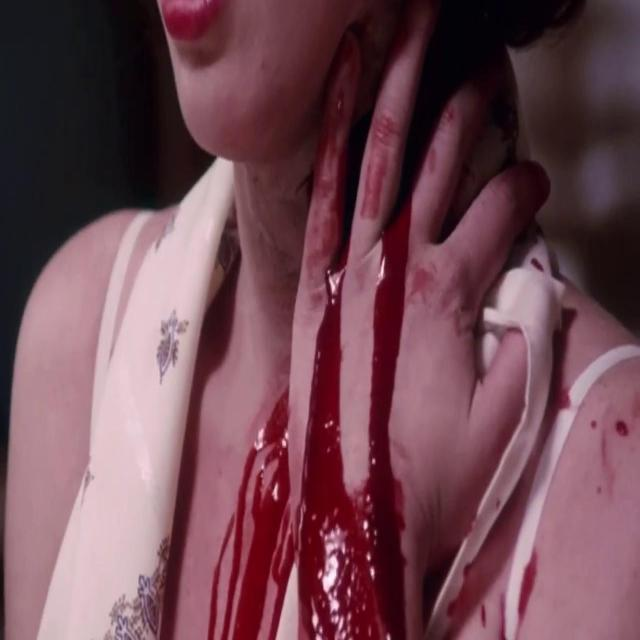flood: (368, 198, 411, 640), (299, 267, 344, 640), (237, 404, 291, 640)
